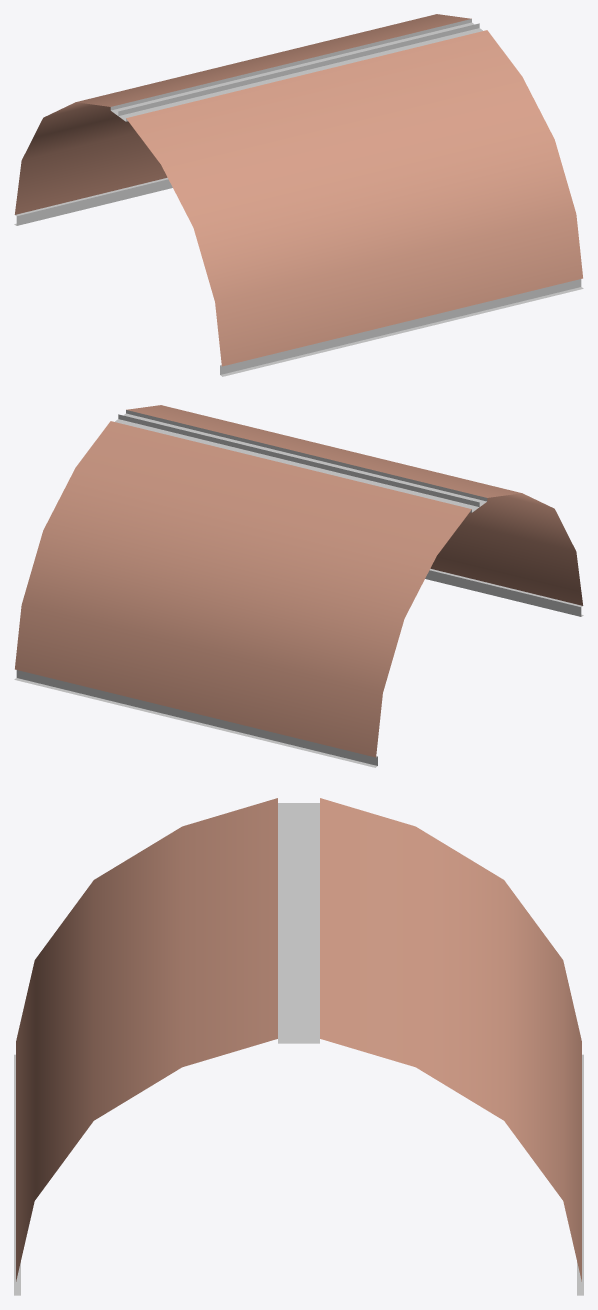
Rendered from Archway.fbx.
The picture shows the model from 3 angles, top to bottom: view 1: azimuth 30°, elevation 25°; view 2: azimuth 150°, elevation 25°; view 3: azimuth 270°, elevation 25°; orthographic projection. The views are drawn at different scales.
Visible parts, largest first — view 1: Archway; view 2: Archway; view 3: Archway.
Boxes of the visible parts, x1,y1,x2,y2 form: Archway: [14, 14, 583, 376]; Archway: [14, 405, 583, 767]; Archway: [14, 798, 583, 1295].
Bounding box in the file's own units: 200 × 100 × 200.
